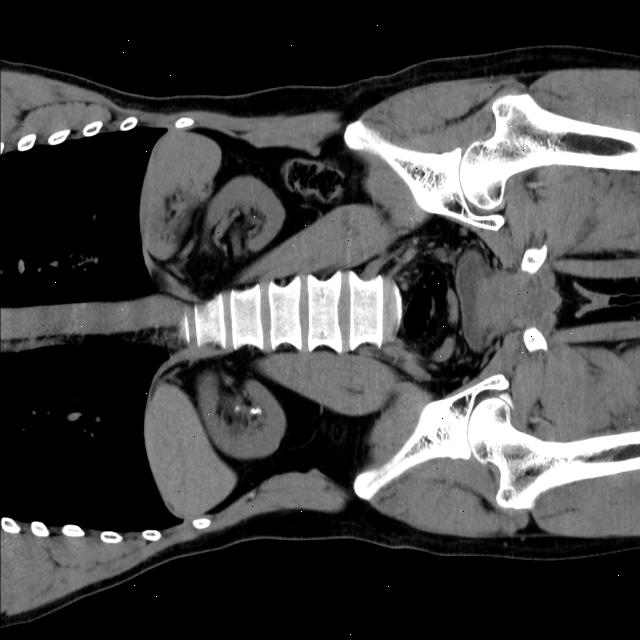kidneystone: (250, 405, 262, 415)
